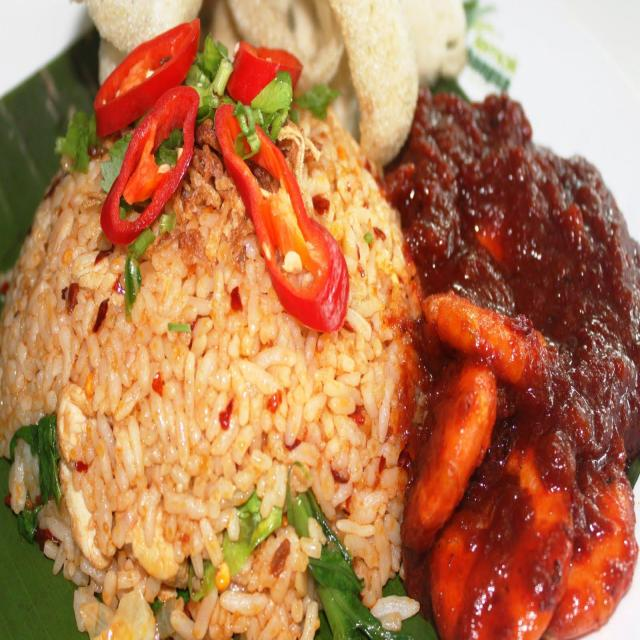Nasi Goreng: (1, 82, 432, 640)
